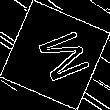M_W: (23, 24, 87, 86)
